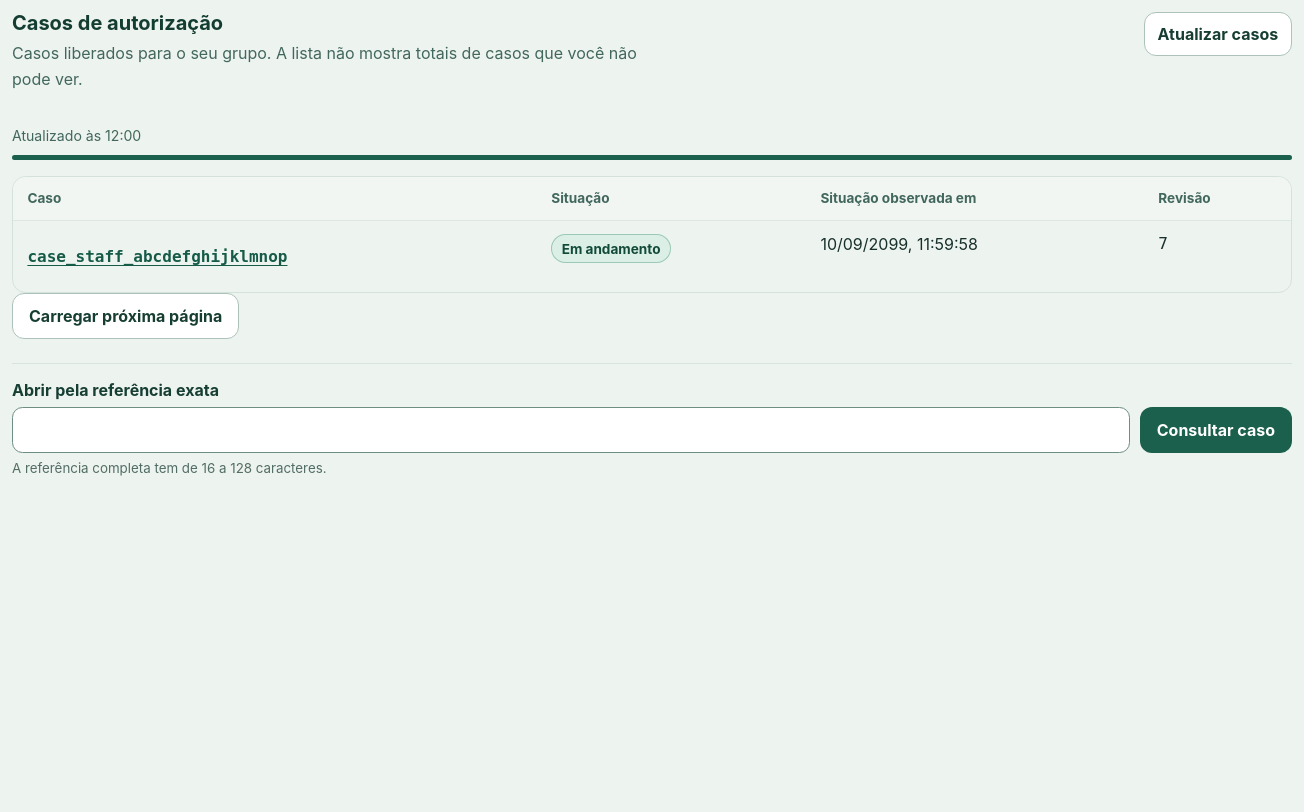
Test: lista a página autorizada na entrada e abre o detalhe existente pela linha
Expected: the text "não mostra totais de casos" is shown, [12, 43, 637, 89]
What coordinates should you click on to do the following:
click the link "case_staff_abcdefghijklmnop"
I would click on:
 (157, 256)
Its box is [27, 234, 288, 278].
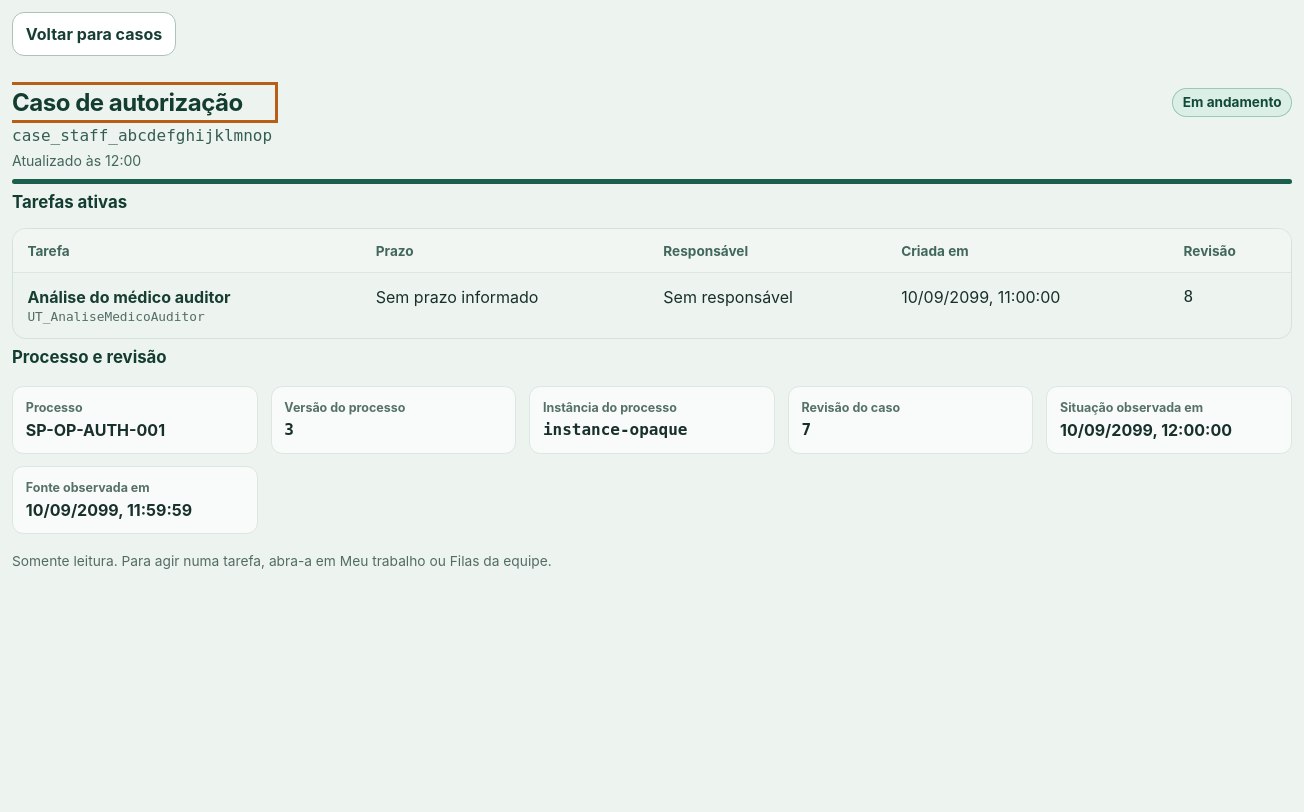
Expected: the text "UT_AnaliseMedicoAuditor" is shown, [27, 309, 205, 324]
